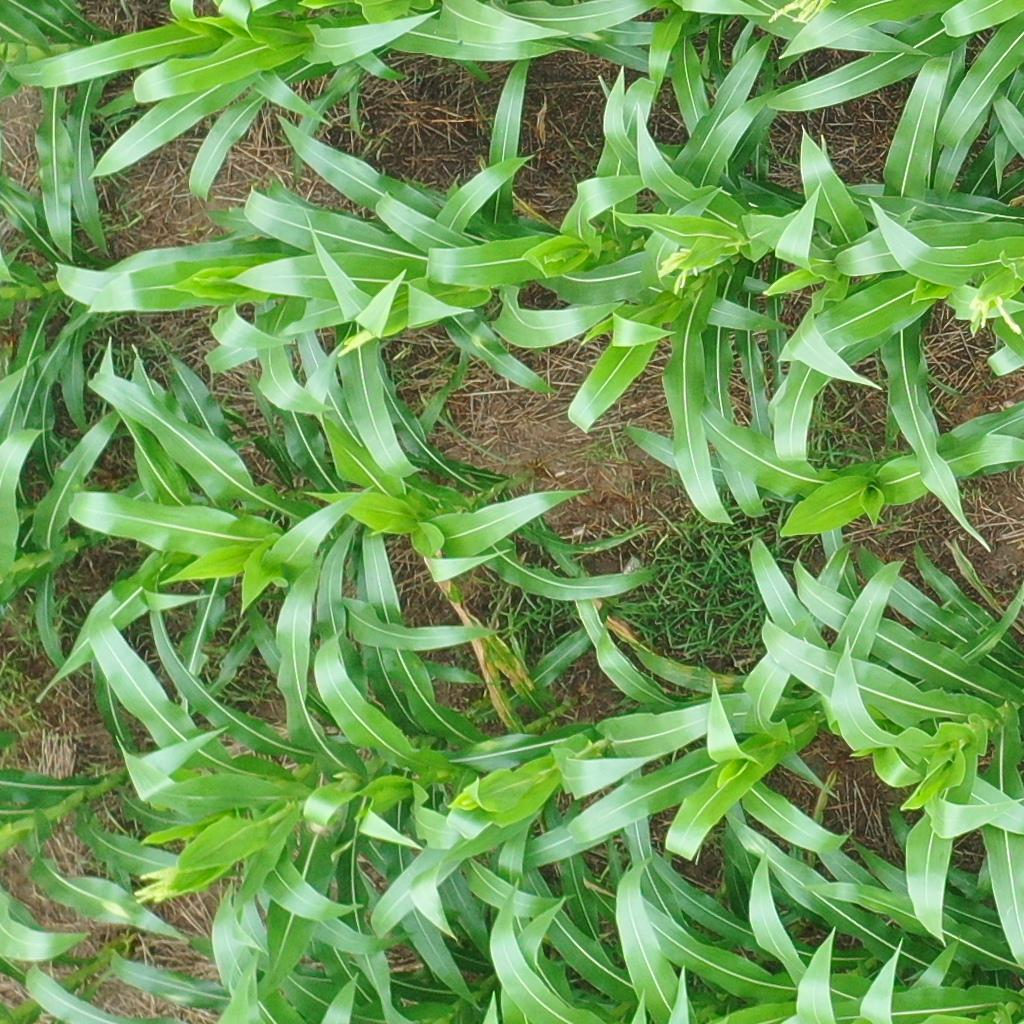Tassel: (967, 280, 1020, 338), (131, 864, 187, 907), (657, 243, 701, 291), (762, 1, 832, 25), (332, 330, 379, 358)
